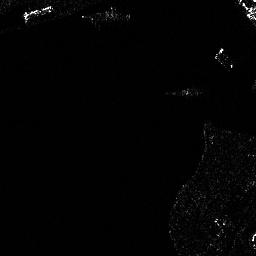ship: (22, 5, 54, 22)
